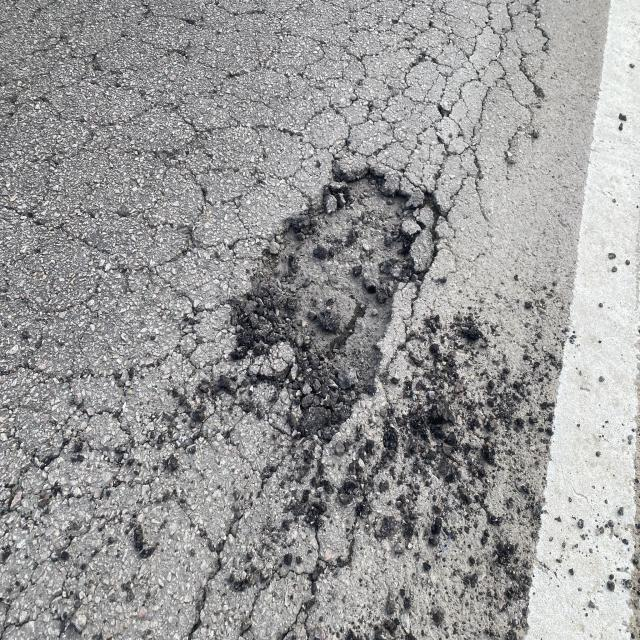pothole: (192, 110, 446, 488)
